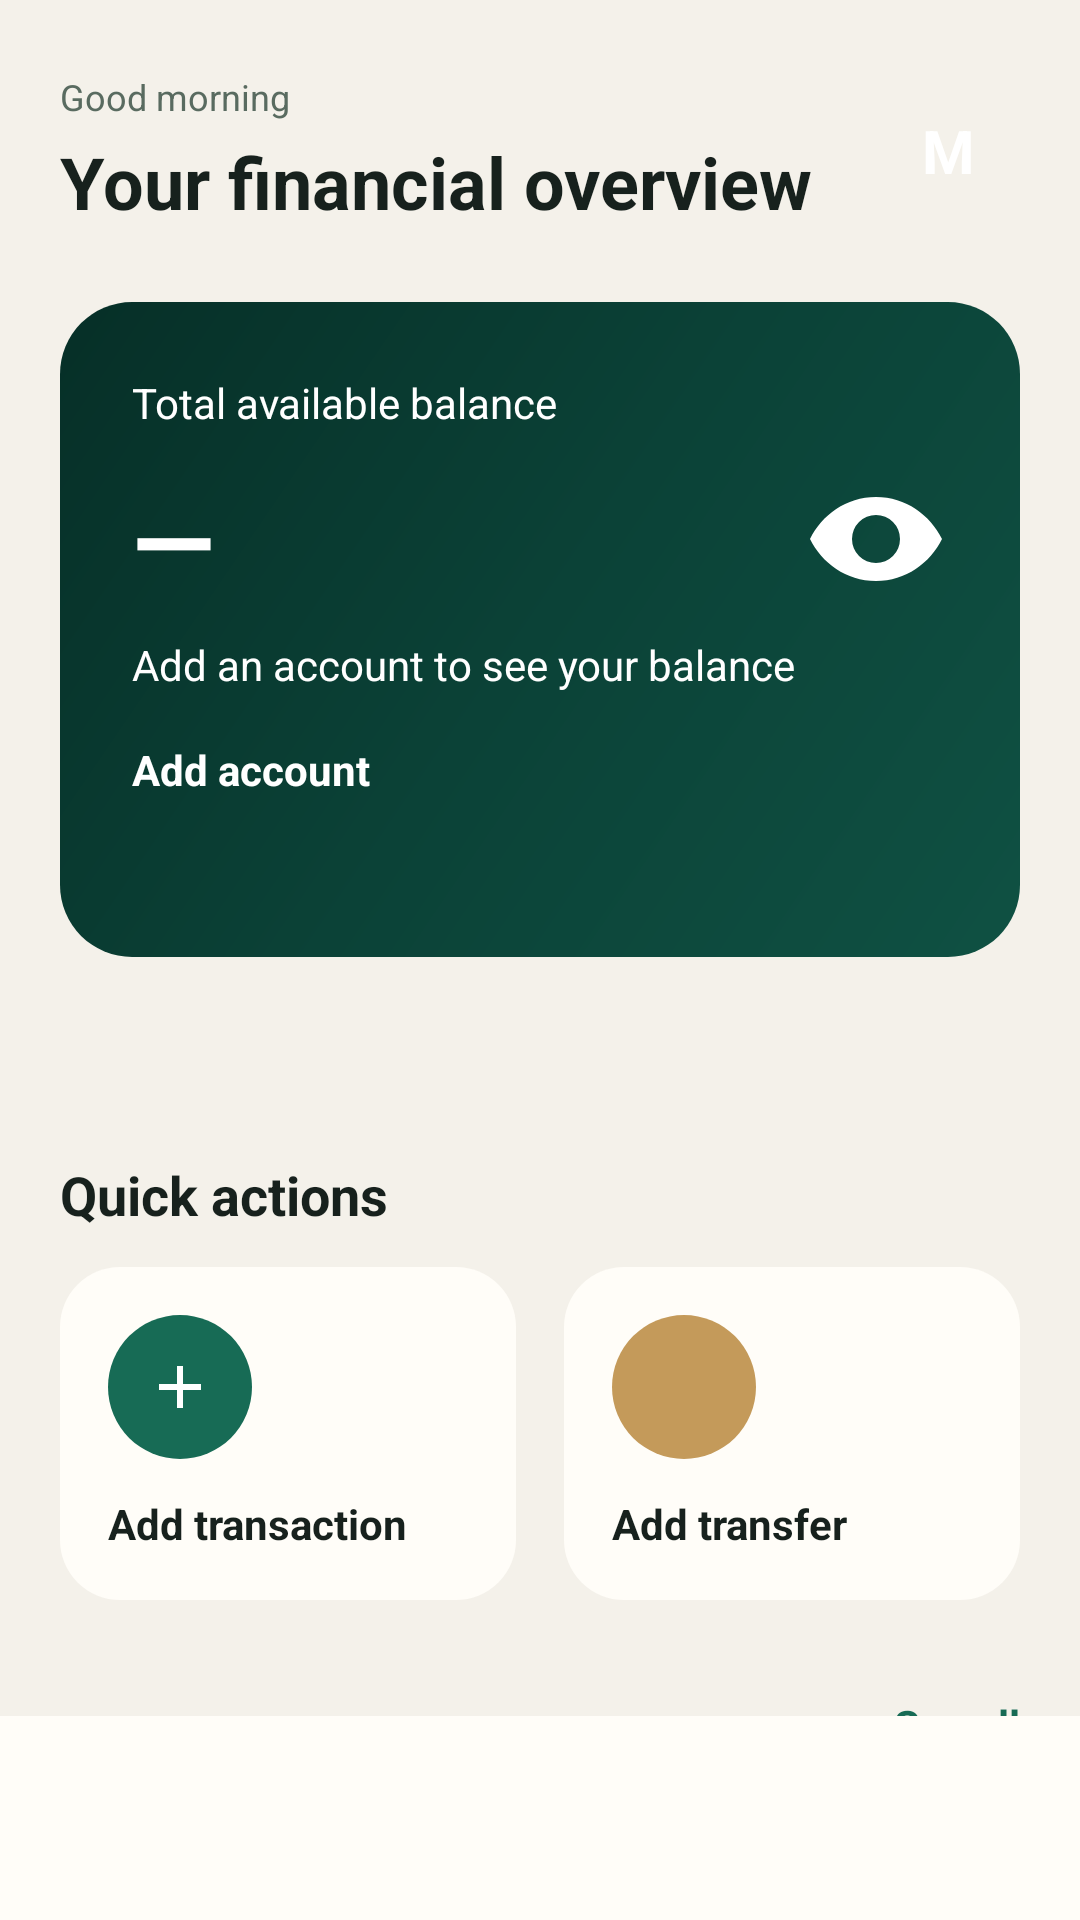

Locate icon controls on the screen. Image size 1080px×1920px, boxes as (x1, y1, x2, y2).
Hide balance: (810, 497, 942, 581)
